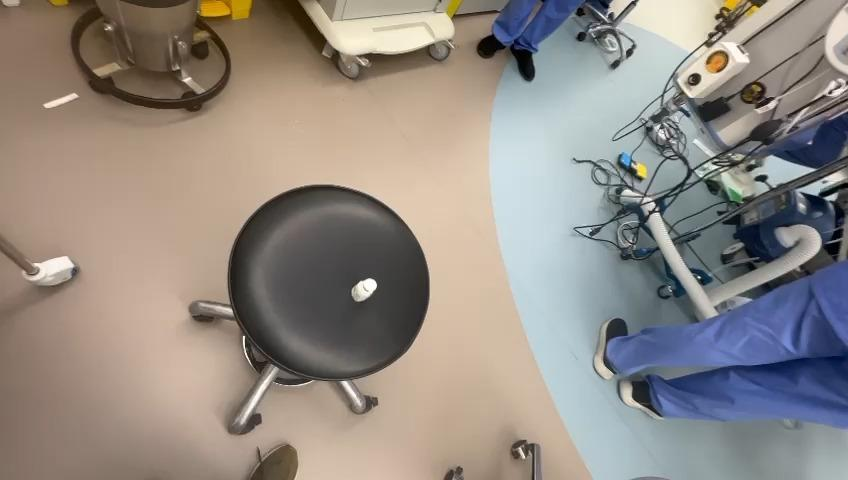augmentin: (351, 280, 378, 302)
